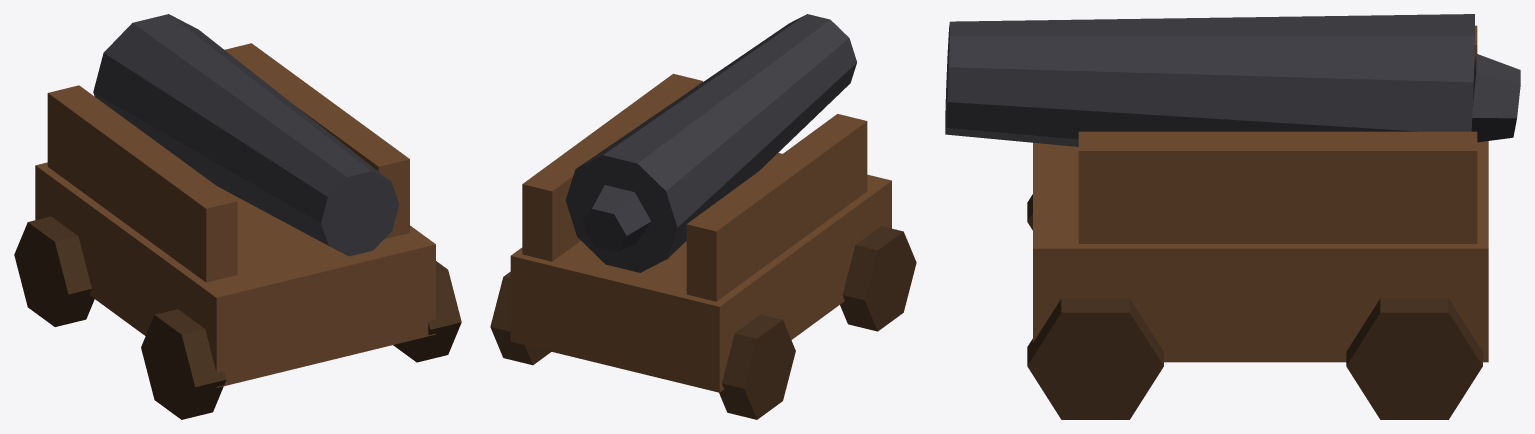
File: nav-canhao.gltf
3 views of the same model, side by side, from view 1: azimuth 30°, elevation 25°; view 2: azimuth 150°, elevation 25°; view 3: azimuth 270°, elevation 25° (orthographic). The views are drawn at different scales.
Parts seen in each view (by area): view 1: nav-canhao; view 2: nav-canhao; view 3: nav-canhao.
Part boxes in pixels (x1,y1,x2,y2): nav-canhao: (14, 14, 461, 419); nav-canhao: (490, 14, 916, 419); nav-canhao: (945, 14, 1520, 419).
Size of the model in its own units: 0.68 by 0.6064 by 1.01.
